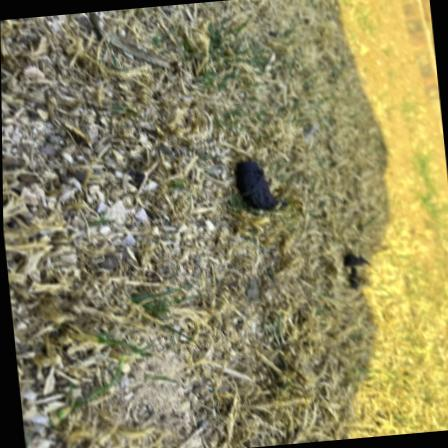dog-poop: (235, 154, 282, 218), (334, 244, 373, 290)
